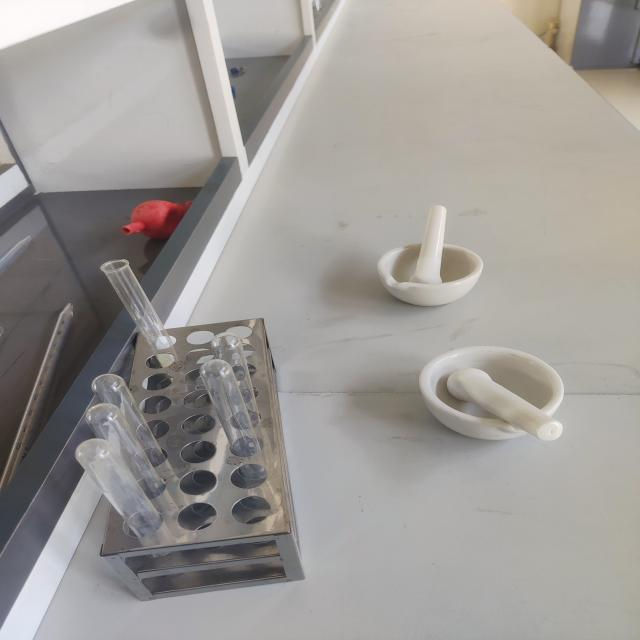Porcelain_Mortar Pestle: (399, 325, 583, 468), (361, 184, 500, 320)
